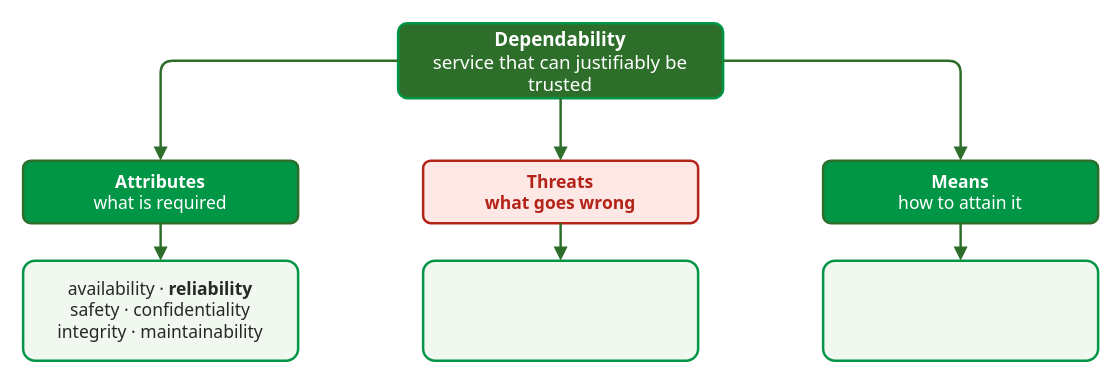
The diagram is 1120 pixels wide and 383 high, and some of its shapes have lost their labels. The shapes that lost their labels are listed below. From the top down, each one's centre as x and y in pixels, then its label:
At (x=560, y=310): "fault → error → failure".
At (x=960, y=310): "fault prevention fault tolerance fault removal fault forecasting".
